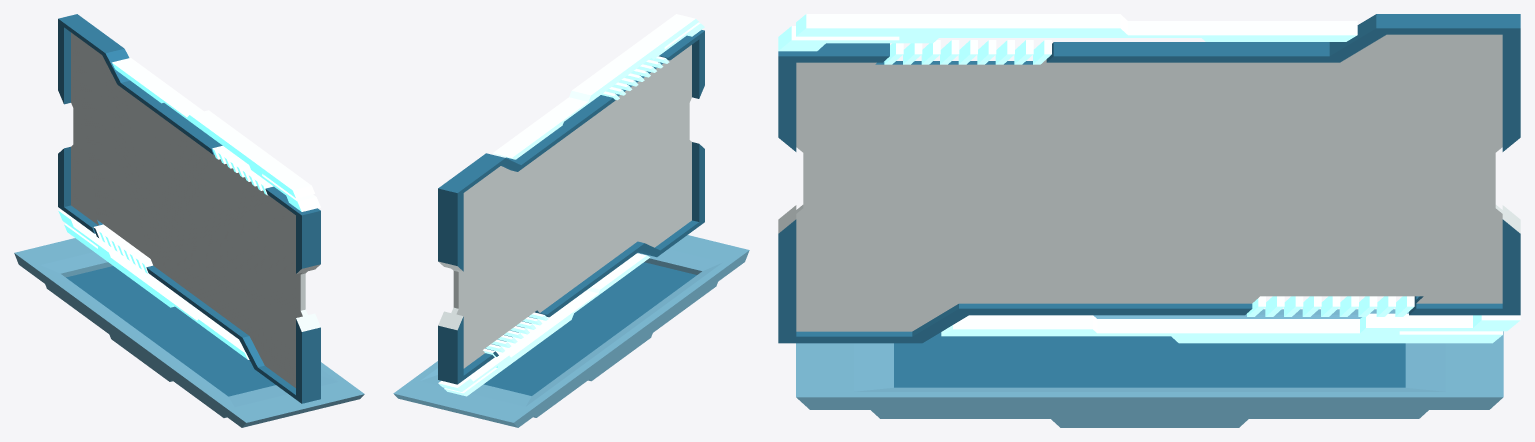
The model's file is Artefak Video Tron Landscaoe BEN VR GBL & GBL.fbx.
The picture shows the model from 3 angles, left to right: view 1: azimuth 30°, elevation 25°; view 2: azimuth 150°, elevation 25°; view 3: azimuth 270°, elevation 25°; orthographic projection. The views are drawn at different scales.
Parts seen in each view (by area): view 1: VideoTron_Landscape_MagneticField1; view 2: VideoTron_Landscape_MagneticField1; view 3: VideoTron_Landscape_MagneticField1.
Part boxes in pixels (left/top/right/bottom): VideoTron_Landscape_MagneticField1: left=14, top=14, right=364, bottom=427; VideoTron_Landscape_MagneticField1: left=393, top=14, right=749, bottom=427; VideoTron_Landscape_MagneticField1: left=778, top=14, right=1520, bottom=427.
Size of the model in its own units: 247 by 485 by 880.
